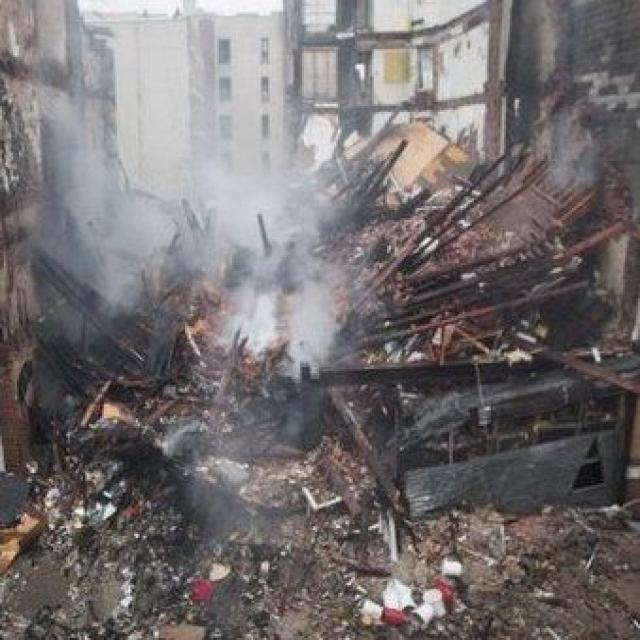collapsed_building: (43, 130, 610, 500)
